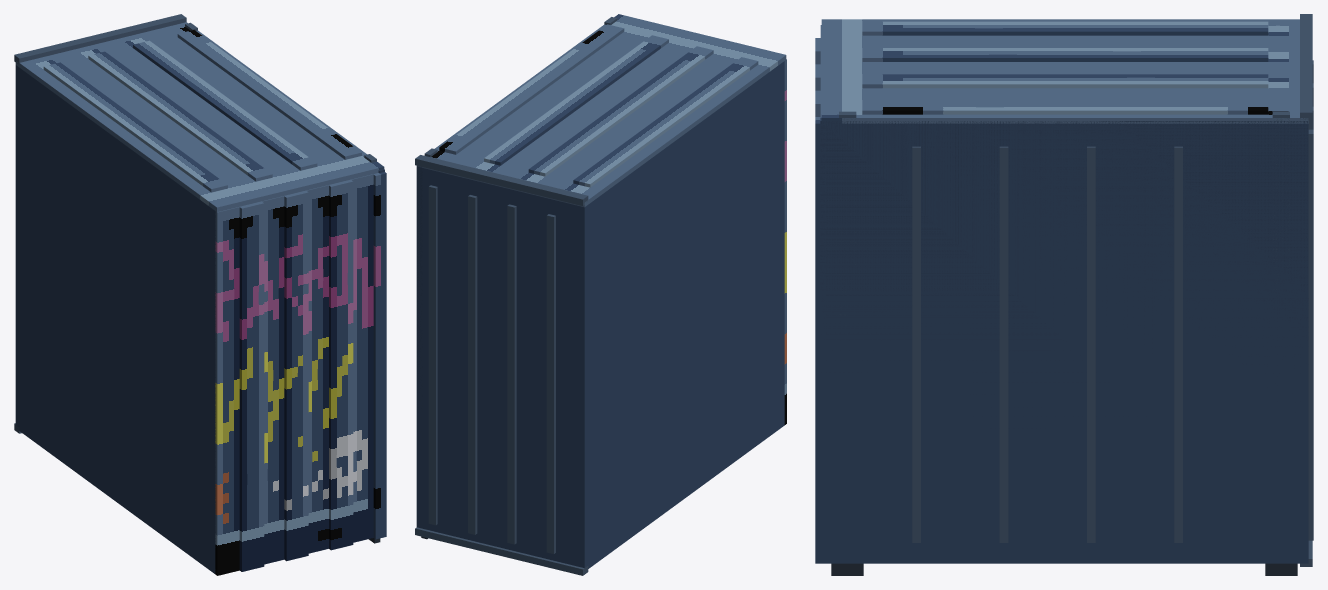
File: CMU3DFreightAU14ContainerBlueGraffitiRight.glb
3 views of the same model, side by side, from view 1: azimuth 30°, elevation 25°; view 2: azimuth 150°, elevation 25°; view 3: azimuth 270°, elevation 25° (orthographic). The views are drawn at different scales.
Visible parts, largest first — view 1: closed cargo shell, source-painted corrugated roof, painted corrugation 2, painted corrugation 4, painted corrugation 6, painted corrugation 1, painted corrugation 7, painted corrugation 3, painted corrugation 5, painted corrugation 8, source-painted roof ridge 4, source-painted roof ridge 2 (+3 smaller); view 2: closed cargo shell, source-painted corrugated roof, rear wall corrugation (×4), rear horizontal frame (×2), source-painted roof ridge 1, source-painted roof ridge 2, source-painted roof ridge 4, source-painted roof ridge 3, painted corrugation 1, outer end wall; view 3: closed cargo shell, source-painted corrugated roof, outer end wall, end wall rib (×4), source-painted roof ridge 1, source-painted roof ridge 3, source-painted roof ridge 4, source-painted roof ridge 2, painted corrugation 8, rear wall corrugation, rear horizontal frame.
Part boxes in pixels (x1,y1,x2,y2): closed cargo shell: (15, 65, 215, 573); source-painted corrugated roof: (15, 22, 384, 211); painted corrugation 2: (239, 201, 264, 571); painted corrugation 4: (284, 190, 308, 561); painted corrugation 6: (329, 179, 353, 550); painted corrugation 1: (215, 207, 239, 575); painted corrugation 7: (351, 174, 373, 542); painted corrugation 3: (262, 196, 284, 564); painted corrugation 5: (306, 185, 328, 553); painted corrugation 8: (373, 172, 386, 539); source-painted roof ridge 4: (177, 30, 361, 159); source-painted roof ridge 2: (88, 51, 272, 181); closed cargo shell: (416, 61, 784, 568); source-painted corrugated roof: (417, 14, 786, 207); rear wall corrugation (×4): (428, 185, 555, 553); rear horizontal frame (×2): (415, 155, 588, 575); source-painted roof ridge 1: (573, 57, 758, 187); source-painted roof ridge 2: (528, 46, 713, 176); source-painted roof ridge 4: (439, 24, 624, 154); source-painted roof ridge 3: (484, 35, 668, 165); painted corrugation 1: (784, 59, 786, 424); outer end wall: (416, 166, 422, 431); closed cargo shell: (825, 123, 1308, 563); source-painted corrugated roof: (821, 19, 1308, 123); outer end wall: (820, 117, 1308, 372); end wall rib (×4): (912, 146, 1182, 542); source-painted roof ridge 1: (862, 21, 1268, 35); source-painted roof ridge 3: (862, 74, 1268, 88); source-painted roof ridge 4: (862, 100, 1268, 114); source-painted roof ridge 2: (862, 48, 1268, 61); painted corrugation 8: (815, 117, 825, 563); rear wall corrugation: (1308, 129, 1313, 540); rear horizontal frame: (1300, 14, 1312, 120).
Size of the model in its own units: 0.9455 by 2.05 by 2.
16 materials, 12 textured.
